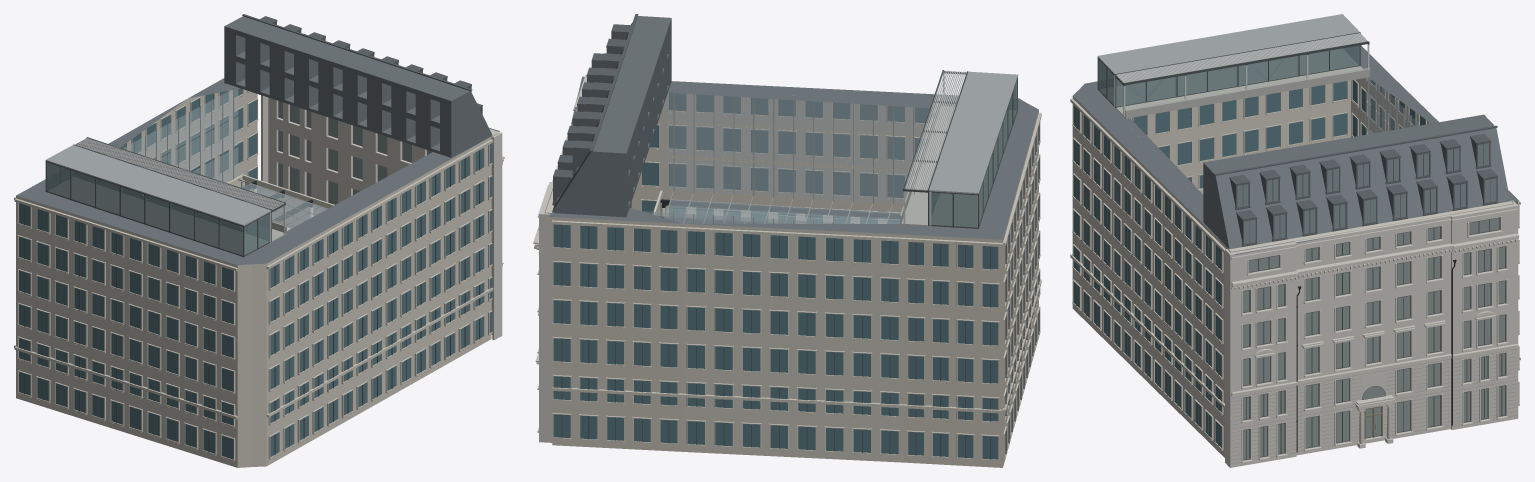
The model's file is ckk-exterior-a5834c794aca.glb.
3 renders of one model, left to right at view 1: azimuth 30°, elevation 25°; view 2: azimuth 150°, elevation 25°; view 3: azimuth 270°, elevation 25°, orthographic. The views are drawn at different scales.
Visible parts, largest first — view 1: CKK.001; view 2: CKK.001; view 3: CKK.001.
Part boxes in pixels (bbox=[...]): CKK.001: bbox=[14, 14, 504, 467]; CKK.001: bbox=[533, 14, 1041, 467]; CKK.001: bbox=[1070, 14, 1520, 467].
Size of the model in its own units: 56.1 by 32.3 by 47.89.
